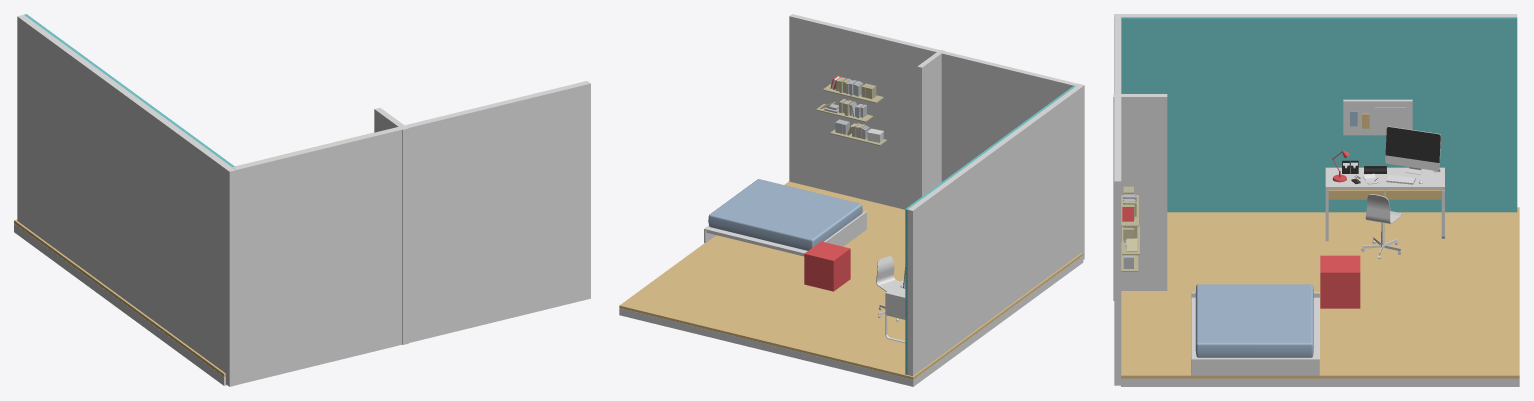
The picture shows the model from 3 angles, left to right: view 1: azimuth 30°, elevation 25°; view 2: azimuth 150°, elevation 25°; view 3: azimuth 270°, elevation 25°; orthographic projection. The views are drawn at different scales.
Visible parts, largest first — view 1: WallShape, pCube234:PIV, pCube253:PIV, pCube235:PIV, FloorShape, BlueWallShape; view 2: pCube234:PIV, WallShape, FloorShape, BedShape, pCube253:PIV, pCube235:PIV, RedCube:PIV, pCube21:PIV, BlueWallShape, ChairShape, polySurface2:PIV; view 3: BlueWallShape, FloorShape, BedShape, pCube235:PIV, pCube253:PIV, pCube21:PIV, WallShape, RedCube:PIV, ComputerDeskShape, polySurface54:PIV, polySurface34:PIV, pCube234:PIV (+5 smaller).
Part boxes in pixels (x1,y1,x2,y2): WallShape: [233, 81, 590, 384]; pCube234:PIV: [17, 14, 236, 386]; pCube253:PIV: [14, 223, 226, 385]; pCube235:PIV: [374, 107, 408, 344]; FloorShape: [14, 132, 373, 376]; BlueWallShape: [24, 14, 235, 167]; pCube234:PIV: [907, 84, 1084, 376]; WallShape: [789, 14, 1078, 209]; FloorShape: [619, 181, 1083, 379]; BedShape: [708, 179, 862, 250]; pCube253:PIV: [619, 256, 1083, 386]; pCube235:PIV: [917, 49, 944, 199]; RedCube:PIV: [804, 241, 850, 291]; pCube21:PIV: [704, 211, 866, 256]; BlueWallShape: [905, 85, 1075, 374]; ChairShape: [876, 256, 900, 291]; polySurface2:PIV: [885, 295, 905, 319]; BlueWallShape: [1121, 17, 1517, 212]; FloorShape: [1121, 207, 1519, 378]; BedShape: [1195, 284, 1313, 357]; pCube235:PIV: [1113, 94, 1167, 300]; pCube253:PIV: [1121, 378, 1519, 386]; pCube21:PIV: [1191, 292, 1319, 375]; WallShape: [1114, 17, 1121, 385]; RedCube:PIV: [1320, 255, 1360, 308]; ComputerDeskShape: [1325, 167, 1444, 241]; polySurface54:PIV: [1385, 127, 1440, 162]; polySurface34:PIV: [1343, 99, 1412, 135]; pCube234:PIV: [1114, 14, 1517, 93].
Size of what is drawn, in the model's own units: 20.04 by 11.37 by 20.38.
